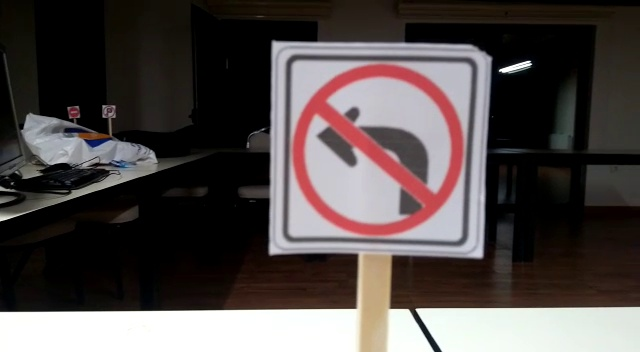sola_donulmez: (273, 47, 489, 243)
